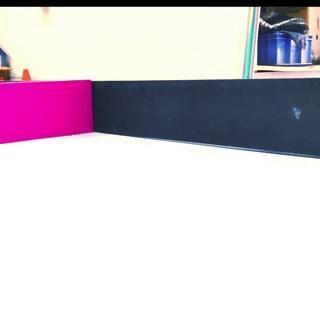xparking: (0, 84, 93, 134)
